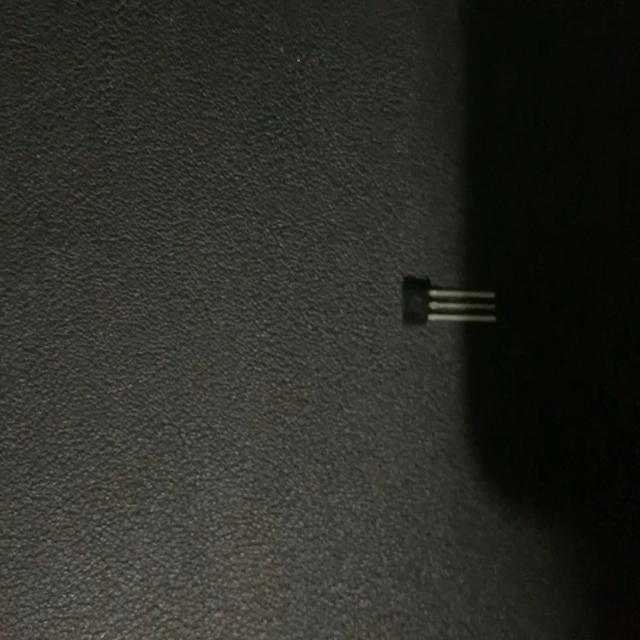BJT: (398, 266, 500, 334)
